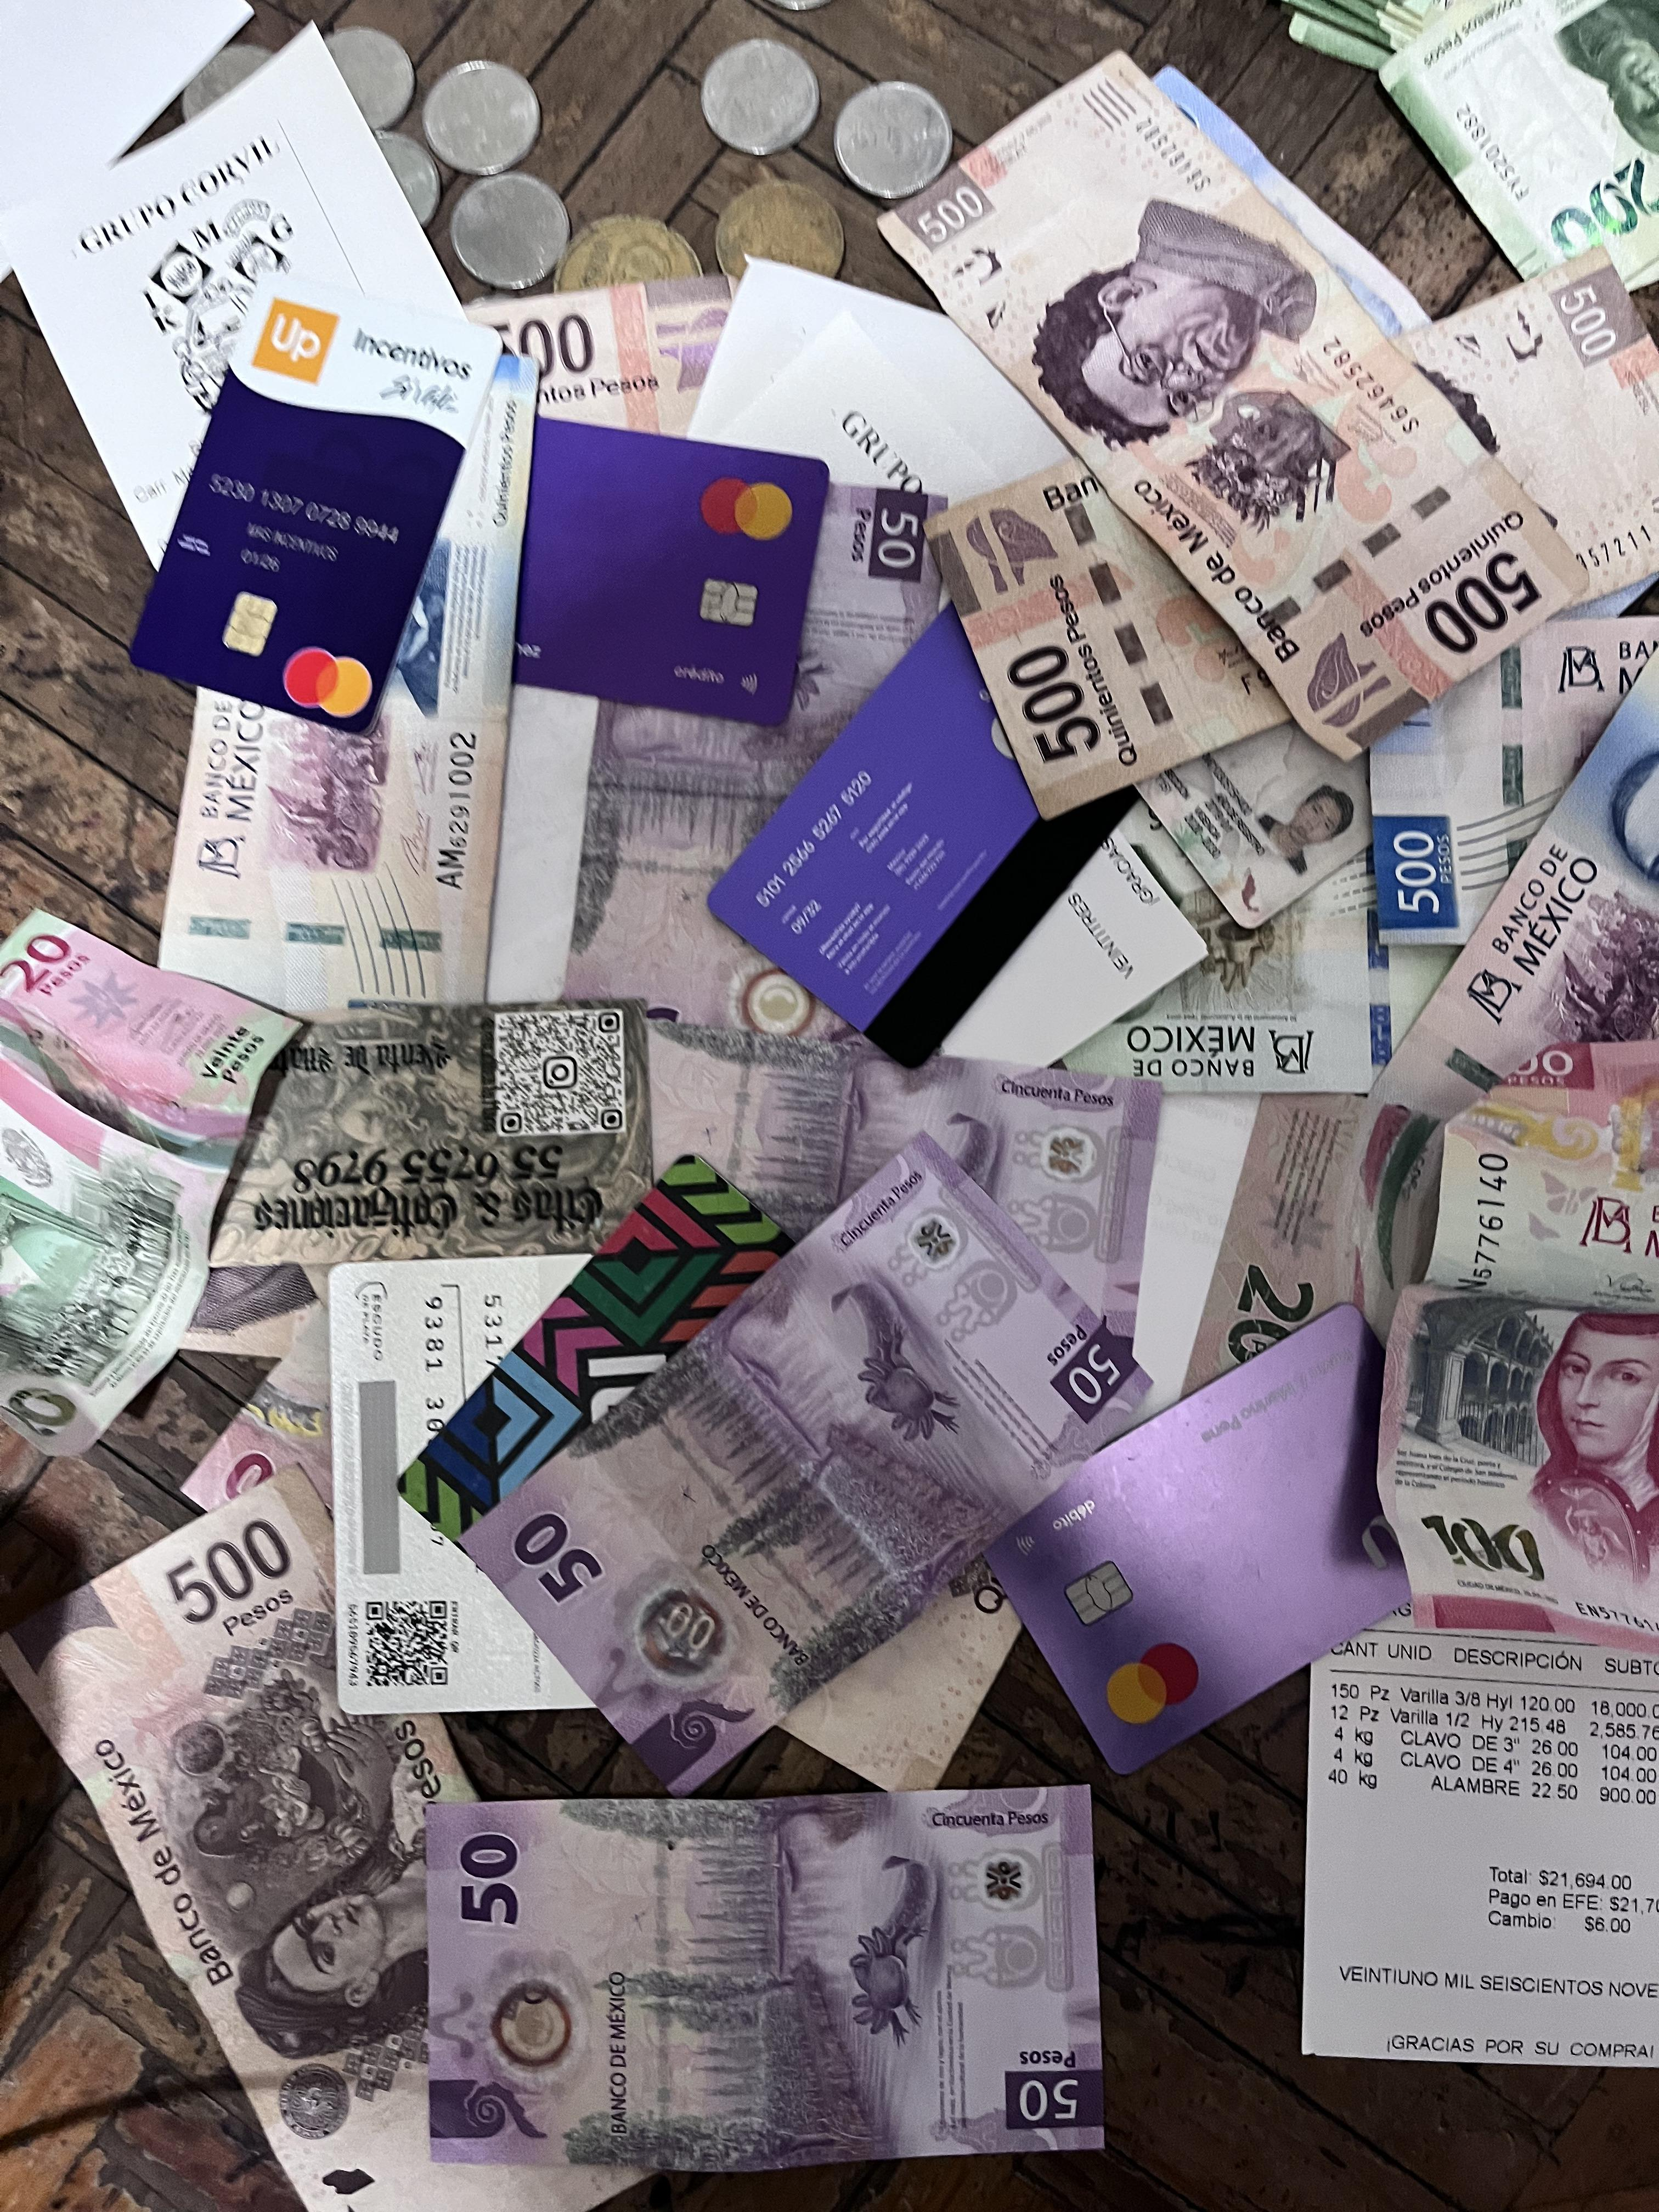100: (1347, 1031, 1659, 1641)
20: (0, 907, 319, 1507), (1164, 1082, 1467, 1437)
200: (1028, 798, 1563, 1099), (1366, 0, 1659, 333)
50: (436, 1151, 1187, 1813), (413, 1799, 1124, 2177), (561, 448, 978, 1057), (598, 1007, 1169, 1430)
500: (856, 49, 1586, 786), (0, 1470, 709, 2212), (917, 249, 1659, 820), (425, 263, 786, 462)
500 nuevo: (157, 334, 530, 1109), (1344, 629, 1659, 1109), (1351, 611, 1659, 949)
